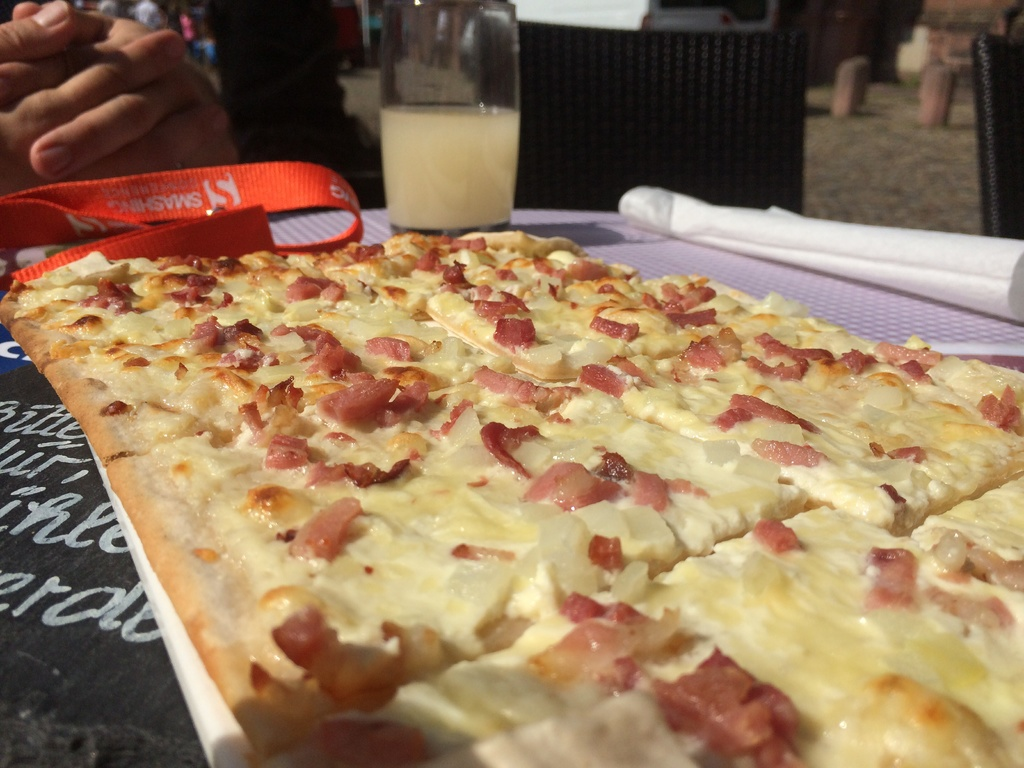Pizza: (0, 246, 1023, 767)
